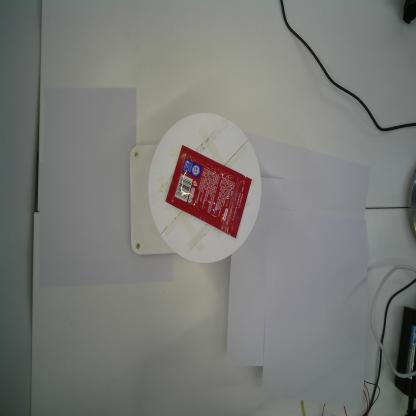Seasoner: (165, 144, 252, 238)
